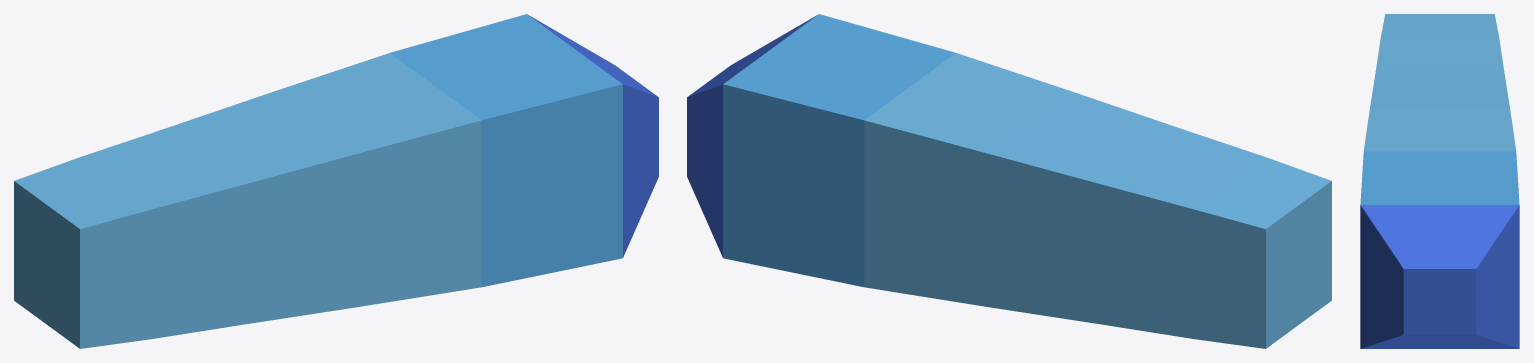
File: Bullet.fbx
3 renders of one model, left to right at view 1: azimuth 30°, elevation 25°; view 2: azimuth 150°, elevation 25°; view 3: azimuth 270°, elevation 25°, orthographic. The views are drawn at different scales.
Visible parts, largest first — view 1: Cube; view 2: Cube; view 3: Cube.
Part boxes in pixels (<box>): Cube: <box>14,14,658,348</box>; Cube: <box>687,14,1331,348</box>; Cube: <box>1360,14,1519,348</box>.
Bounding box in the file's own units: 123 × 34.73 × 34.73.
